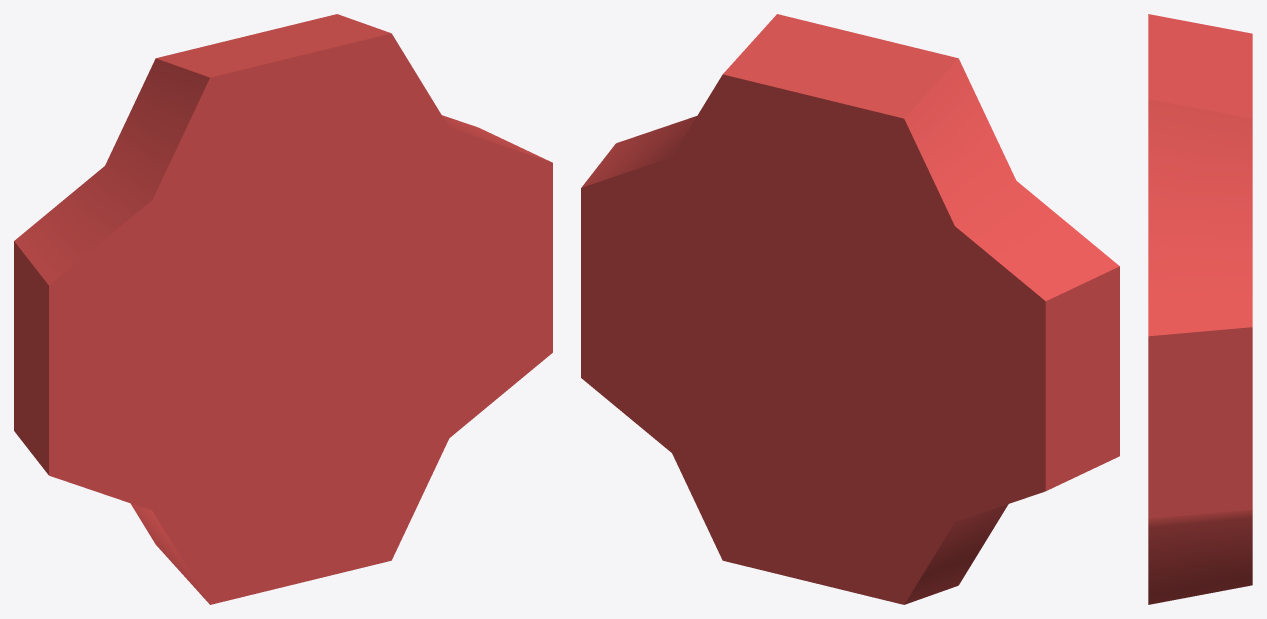
File: sliceCollider.obj
3 views of the same model, side by side, from view 1: azimuth 30°, elevation 25°; view 2: azimuth 150°, elevation 25°; view 3: azimuth 270°, elevation 25° (orthographic). The views are drawn at different scales.
Parts seen in each view (by area): view 1: paprikaSlice; view 2: paprikaSlice; view 3: paprikaSlice.
Part boxes in pixels (x1=…): paprikaSlice: x1=14, y1=14, x2=552, y2=604; paprikaSlice: x1=581, y1=14, x2=1119, y2=604; paprikaSlice: x1=1148, y1=14, x2=1252, y2=604.
Size of the model in its own units: 0.1602 by 0.1602 by 0.03.
